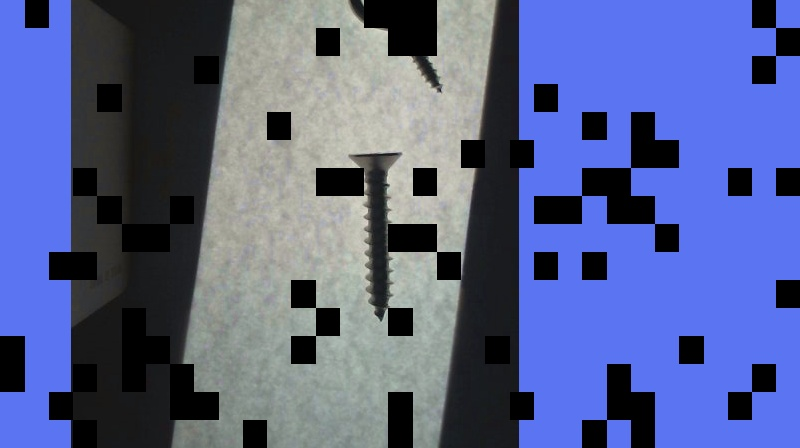O001: (351, 0, 444, 92)
S001: (347, 148, 404, 324)
